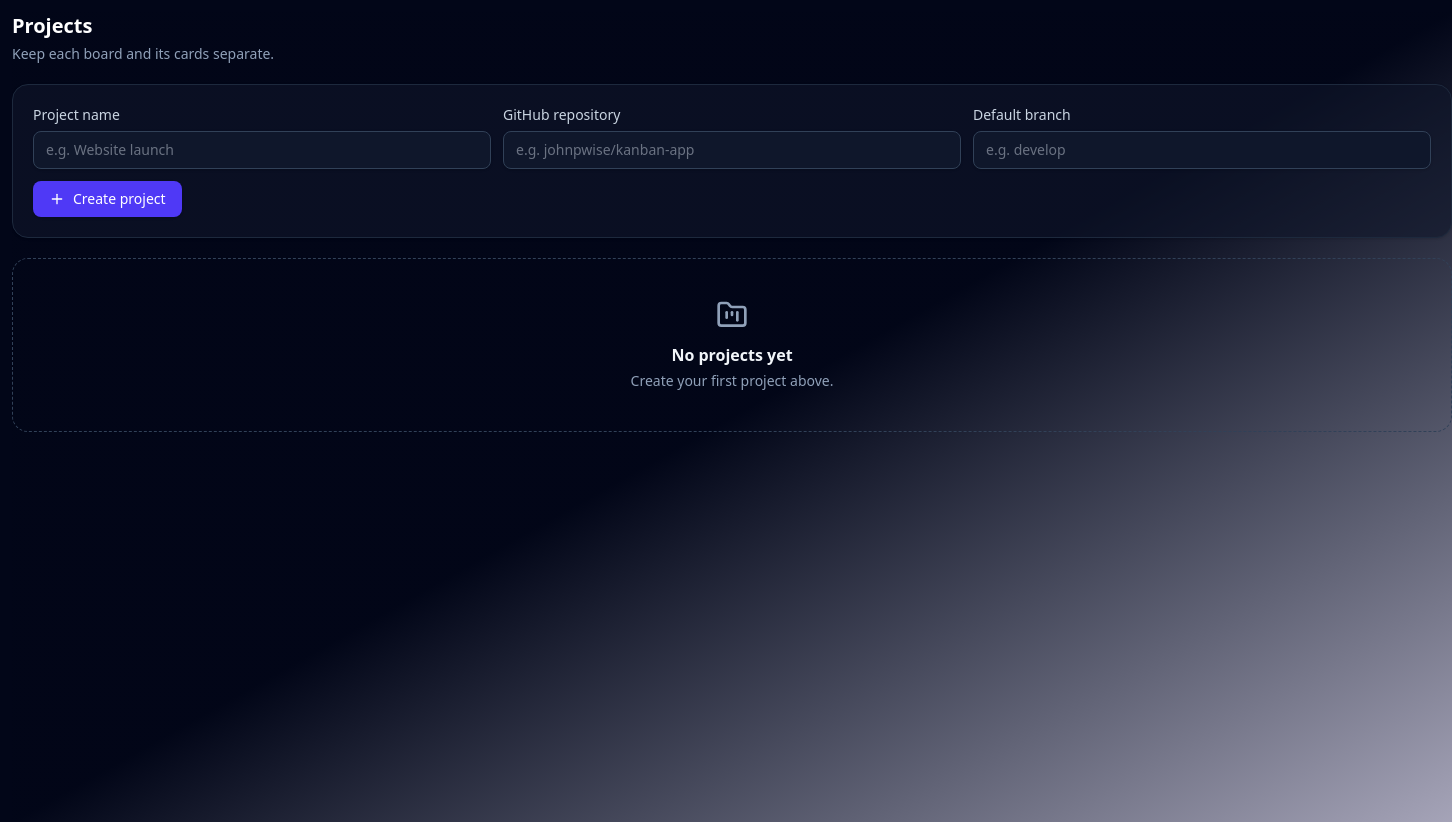
Test: ProjectDashboard › should show a safe action error
The width and height of the screenshot is (1452, 822).
Type "Launch plan" into the field labelled "Project name". click: (262, 150)
box: x1=33 y1=131 x2=491 y2=169
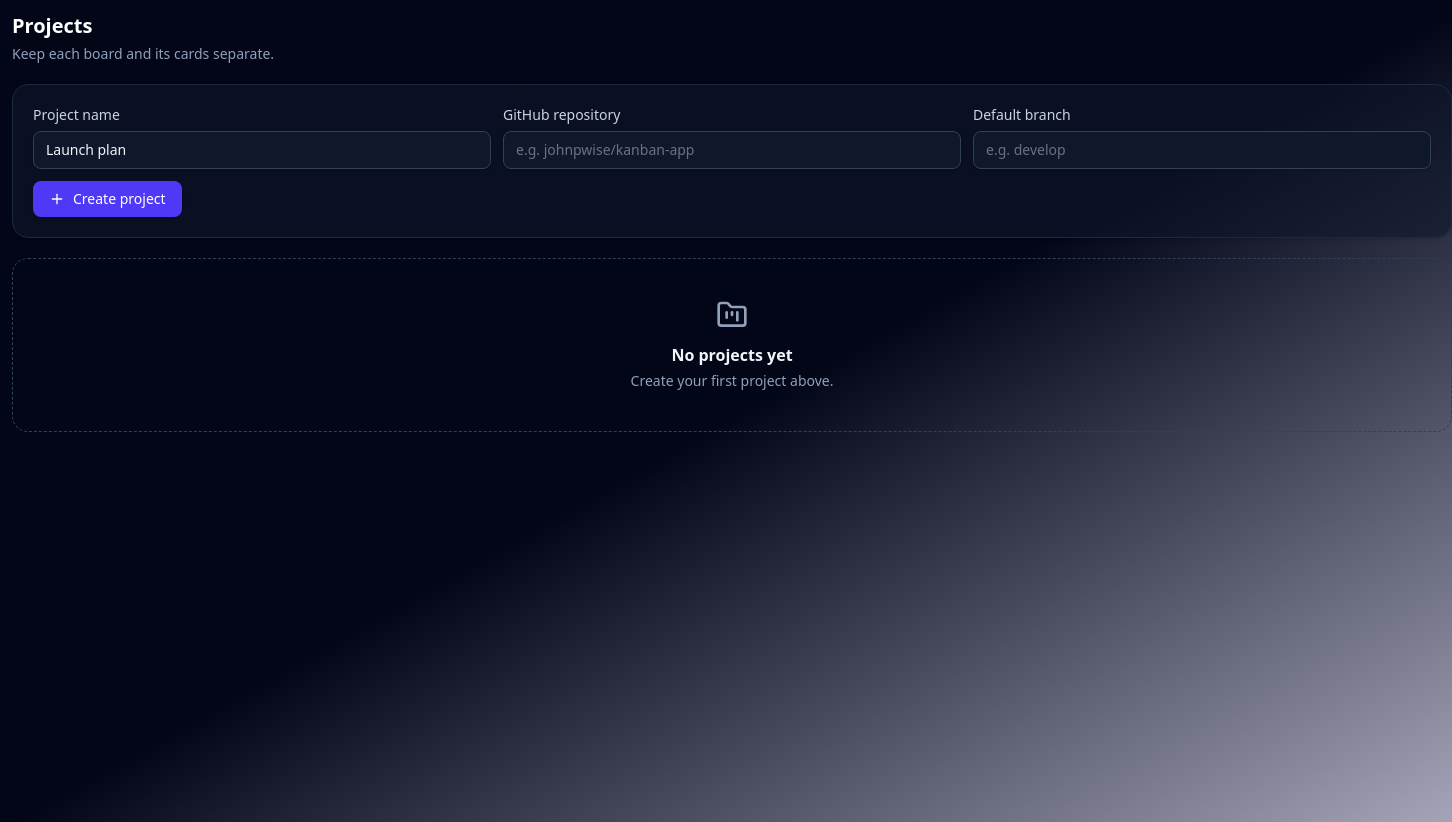
Type "johnpwise/kanban-app" into the field labelled "GitHub repository". click: (732, 150)
box: x1=503 y1=131 x2=961 y2=169
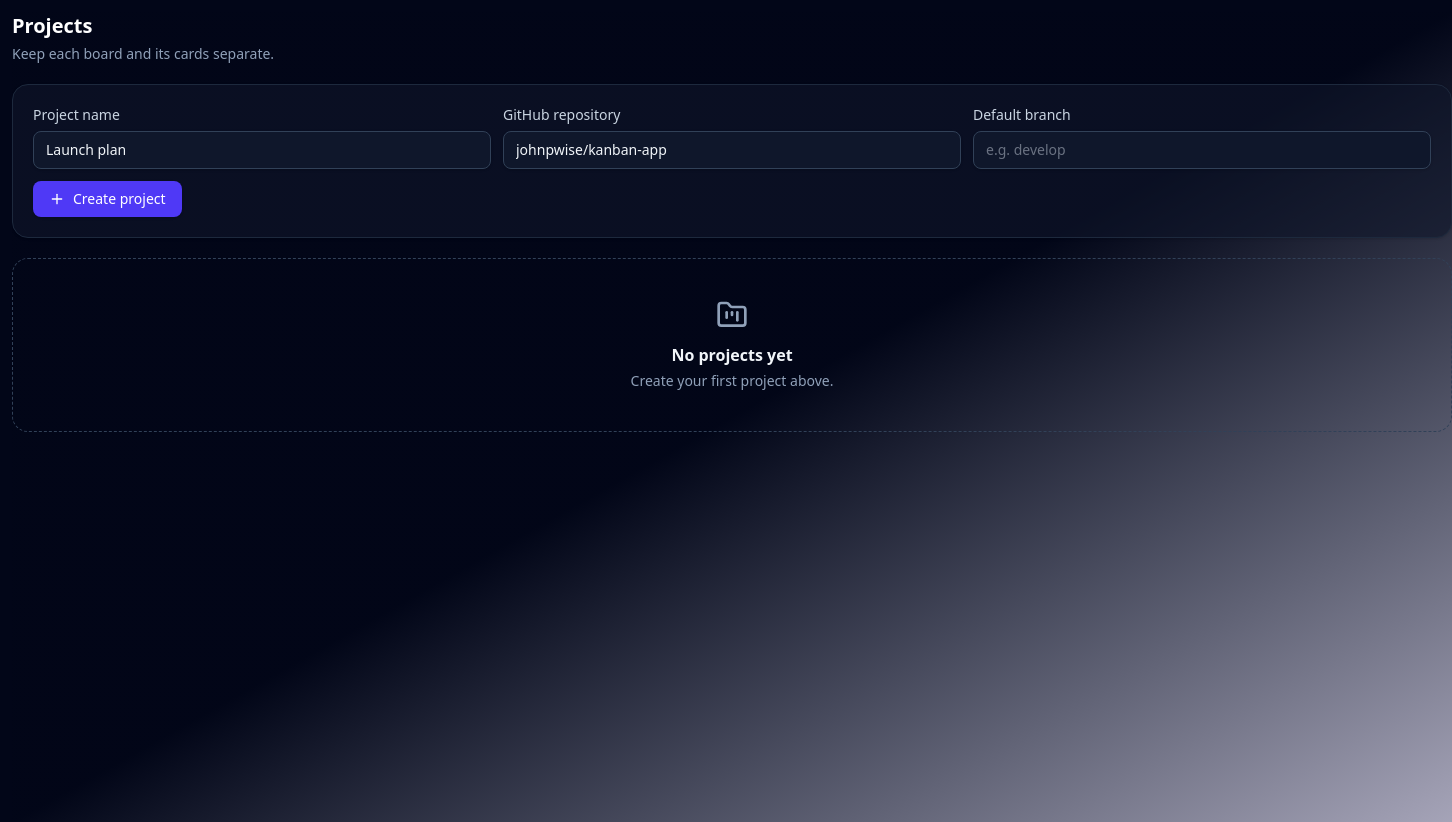
Type "develop" into the field labelled "Default branch". click: (1202, 150)
box: x1=973 y1=131 x2=1431 y2=169
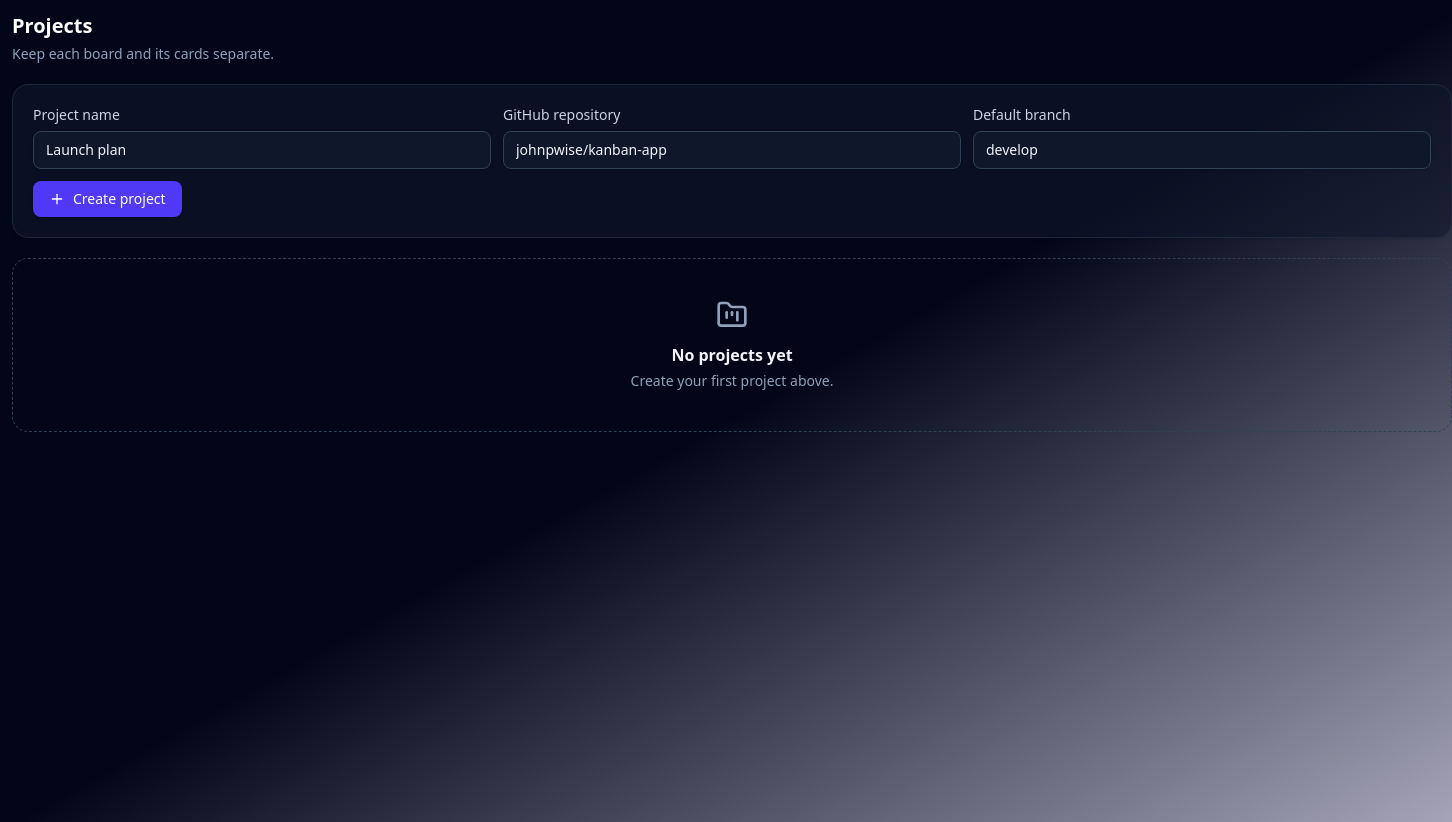
Submit the form with test id "project-dashboard-form", box x1=12 y1=84 x2=1451 y2=238
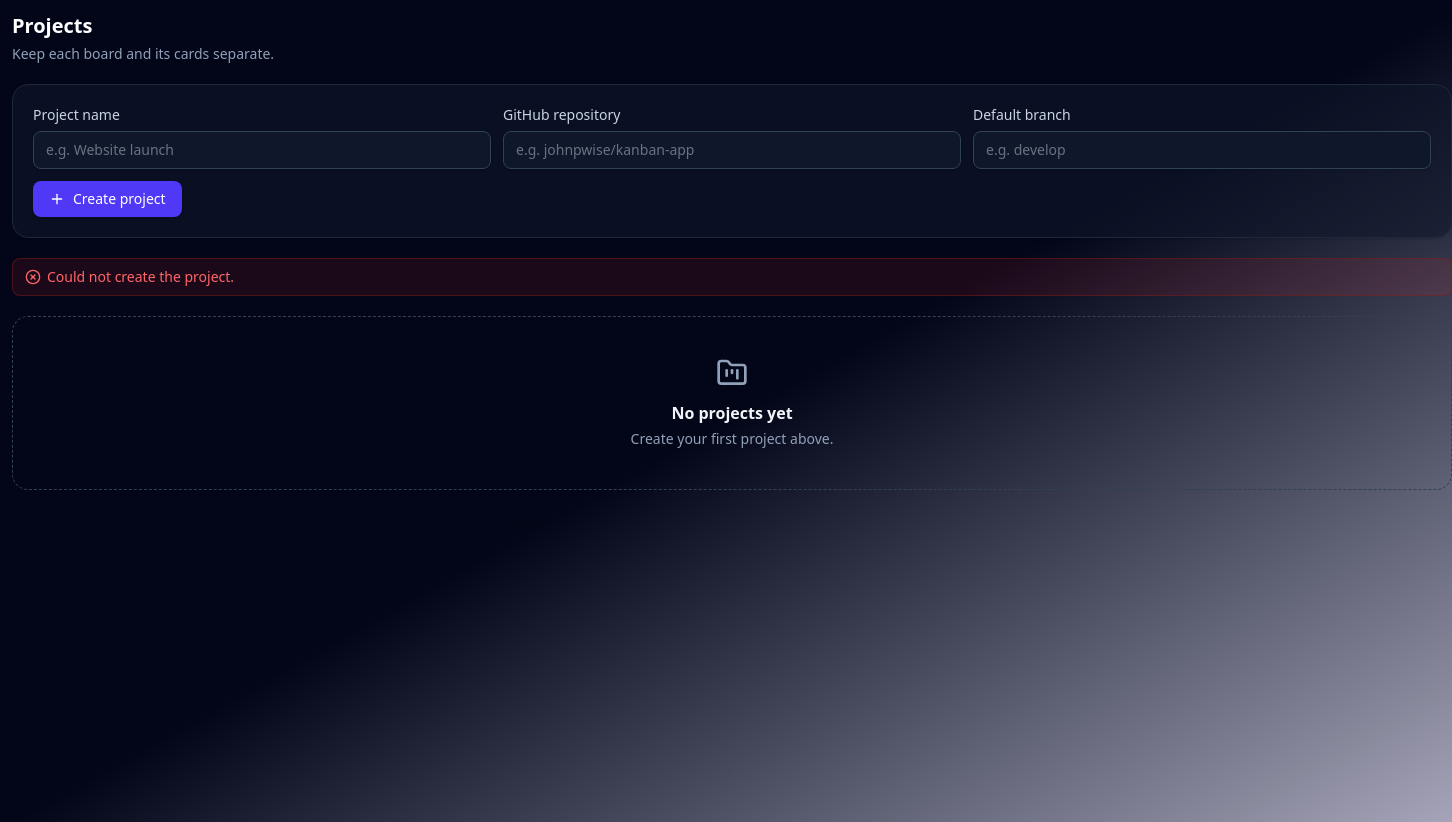
Expected: the message reads "Could not create the project.", x1=47 y1=267 x2=234 y2=286
